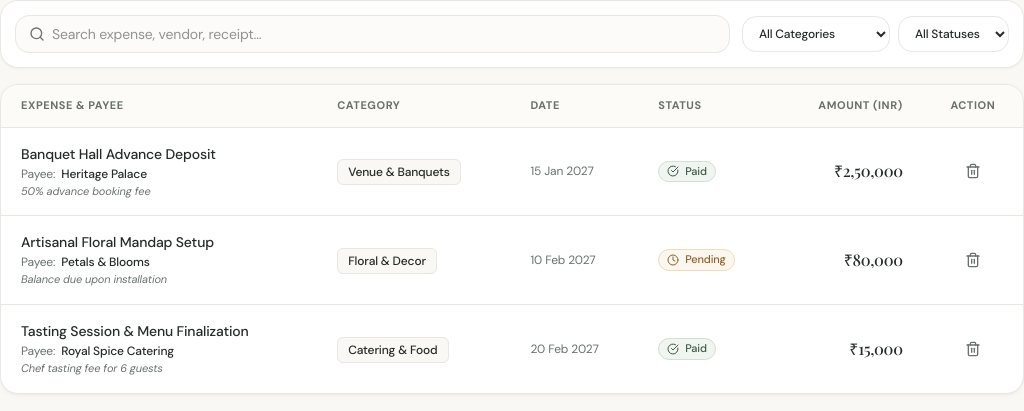
Test case: ExpenseTable Component & Accessibility › filters expenses by category dropdown
The image size is (1024, 411).
Select "Catering & Food" in the dropdown named "Filter expenses by category" at (816, 34), box [742,16,890,52]
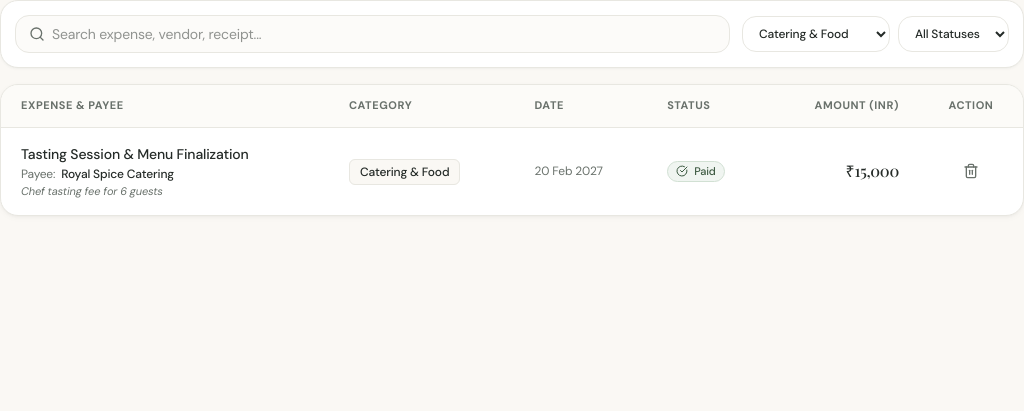
Expected: the text "Tasting Session & Menu Finalization" is shown, [21,145,249,163]
Expected: the text "Banquet Hall Advance Deposit" is gone
Expected: the text "Artisanal Floral Mandap Setup" is gone
